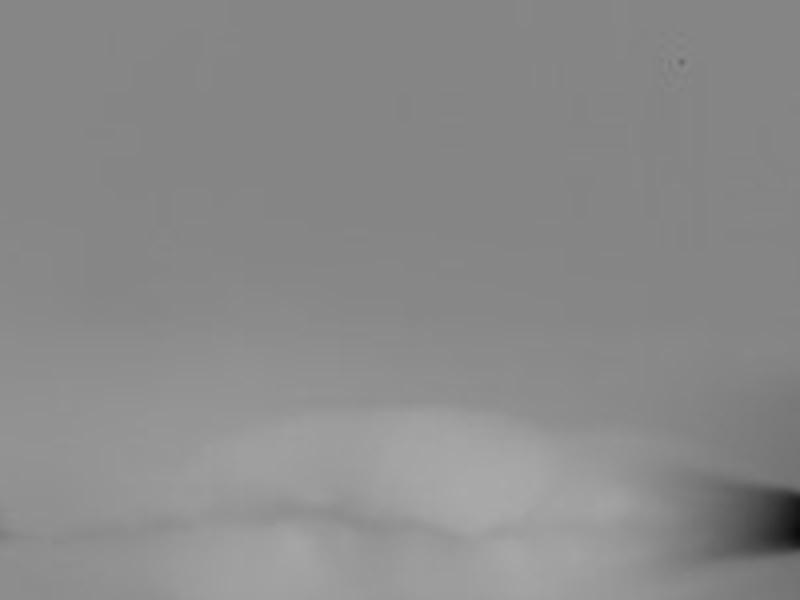defect: (757, 486, 800, 555), (677, 56, 686, 68)
